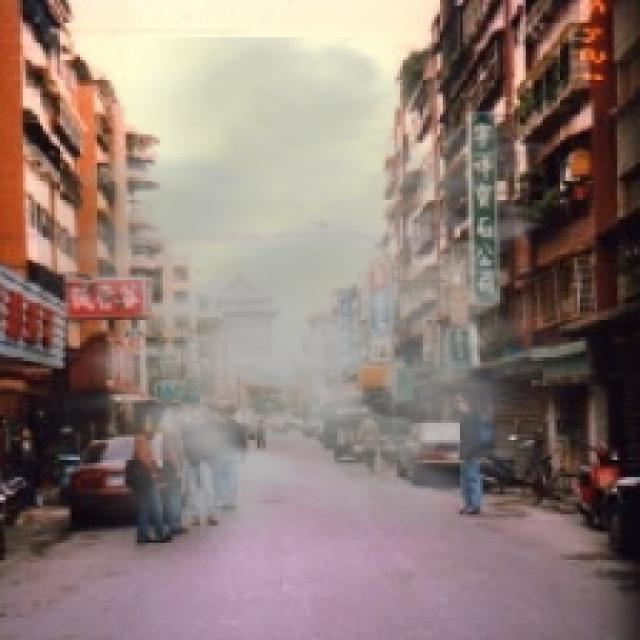smoke: (37, 37, 603, 574)
